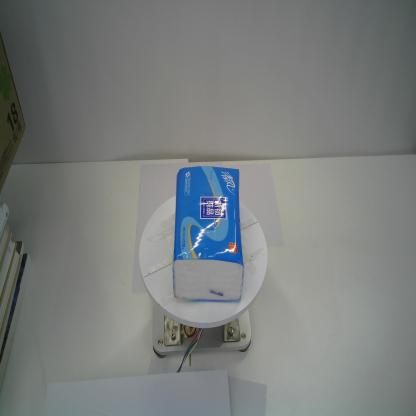Tissue: (171, 164, 245, 304)
